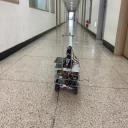cart: (54, 62, 80, 95)
